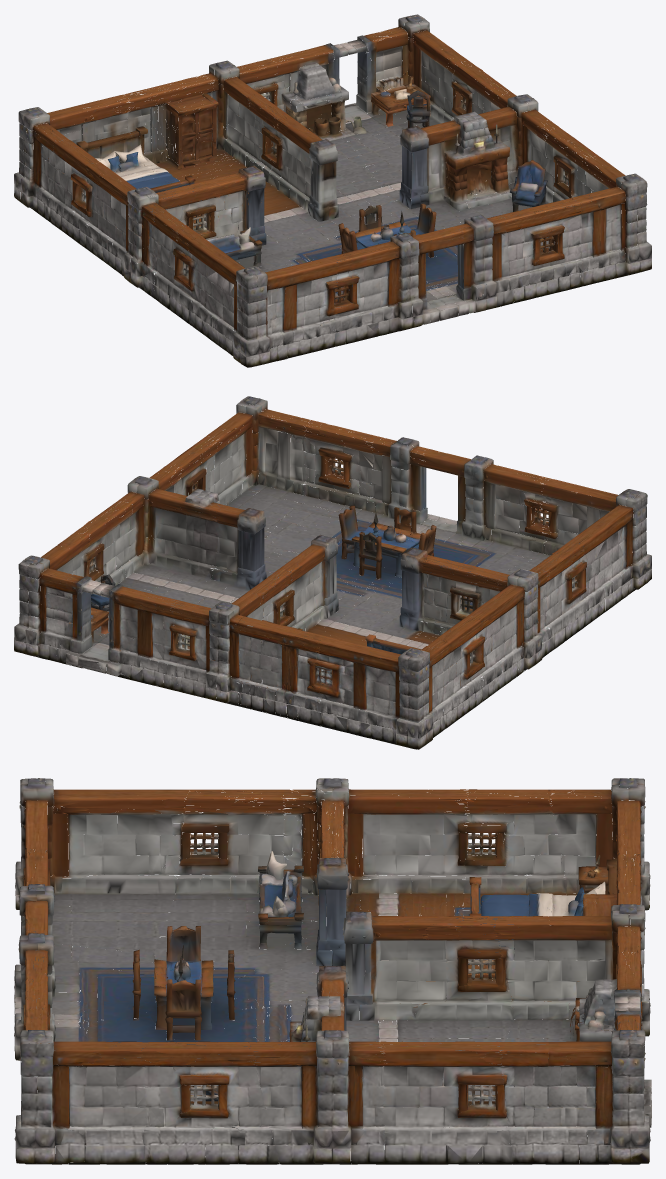
File: house-02.glb
3 renders of one model, top to bottom at view 1: azimuth 30°, elevation 25°; view 2: azimuth 150°, elevation 25°; view 3: azimuth 270°, elevation 25°, orthographic. The views are drawn at different scales.
Visible parts, largest first — view 1: nebeljagd-tripo-house-02; view 2: nebeljagd-tripo-house-02; view 3: nebeljagd-tripo-house-02.
Boxes of the visible parts, x1,y1,x2,y2 form: nebeljagd-tripo-house-02: [14, 14, 651, 367]; nebeljagd-tripo-house-02: [14, 396, 651, 749]; nebeljagd-tripo-house-02: [14, 778, 651, 1164].
Bounding box in the file's own units: 22.02 × 4.97 × 22.
1 material, 1 textured.
